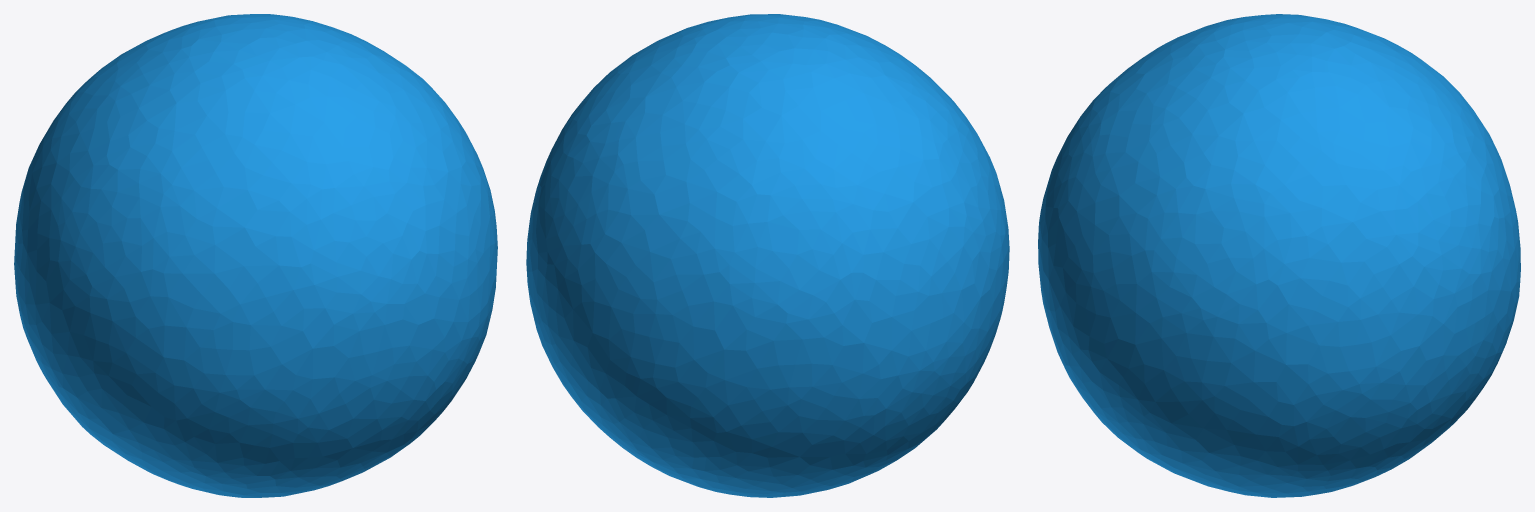
The model's file is lowpolysky.fbx.
3 renders of one model, left to right at view 1: azimuth 30°, elevation 25°; view 2: azimuth 150°, elevation 25°; view 3: azimuth 270°, elevation 25°, orthographic.
Visible parts, largest first — view 1: sky; view 2: sky; view 3: sky.
Part boxes in pixels (<box>): sky: <box>14,14,497,497</box>; sky: <box>526,14,1009,497</box>; sky: <box>1038,14,1520,497</box>.
Size of the model in its own units: 40754 by 40997 by 40718.
